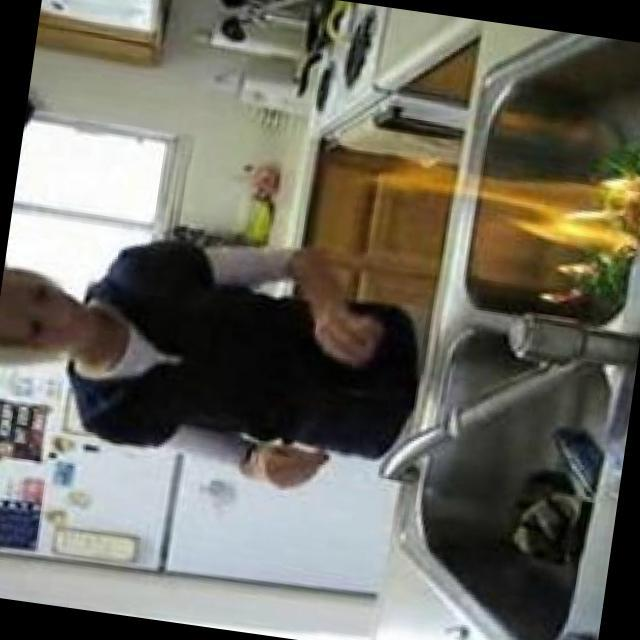Fire: (398, 157, 640, 301)
